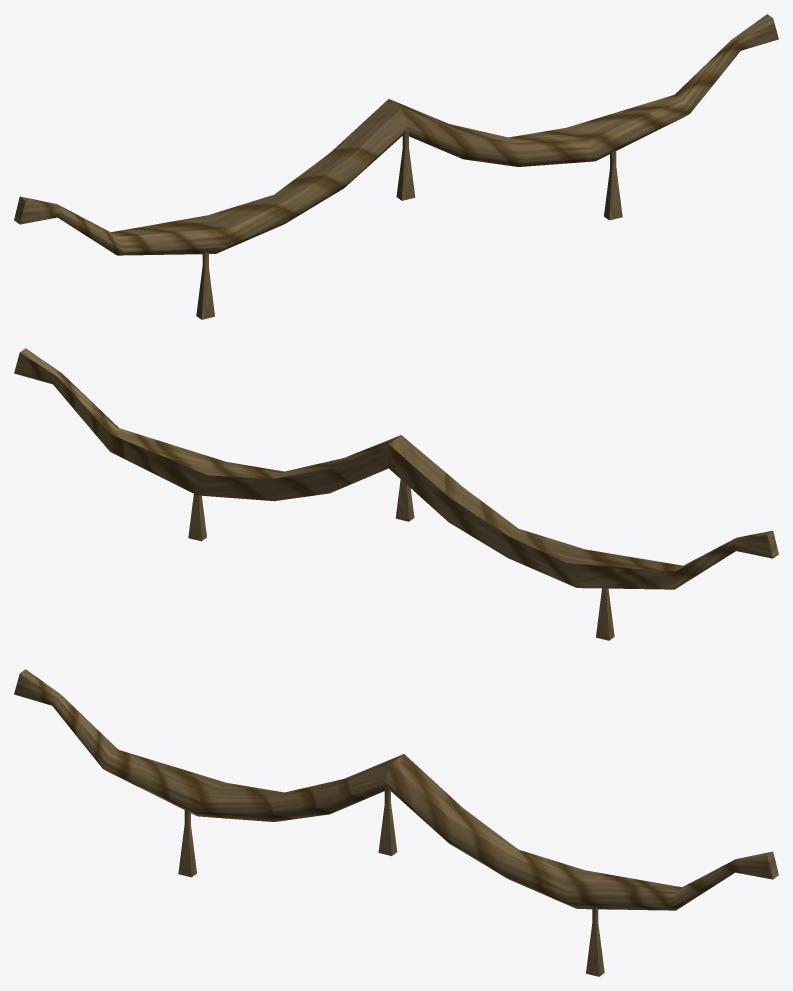
File: BgMD_Shimenawa_smoll_0101.fbx
The picture shows the model from 3 angles, top to bottom: view 1: azimuth 30°, elevation 25°; view 2: azimuth 150°, elevation 25°; view 3: azimuth 330°, elevation 25°; orthographic projection.
Parts seen in each view (by area): view 1: pCube27; view 2: pCube27; view 3: pCube27.
Boxes of the visible parts, x1,y1,x2,y2 form: pCube27: (14, 14, 778, 319); pCube27: (14, 348, 778, 640); pCube27: (14, 669, 778, 976).
Bounding box in the file's own units: 818 × 161 × 46.99.
